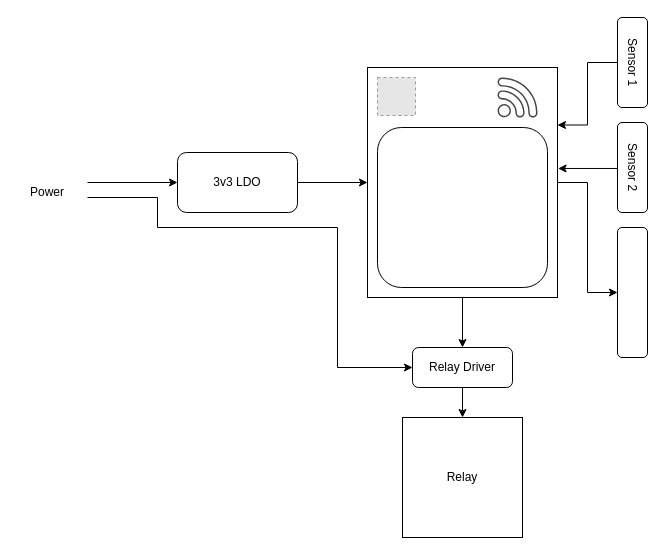
This 665x555 diagram has some shape labels left out. Grey dashed boxes stand in for pictures. The centre of each missing label's shape, as x and y in pixels:
ESP 32: the point at 462,207
OUTPUT Pins: the point at 632,292
